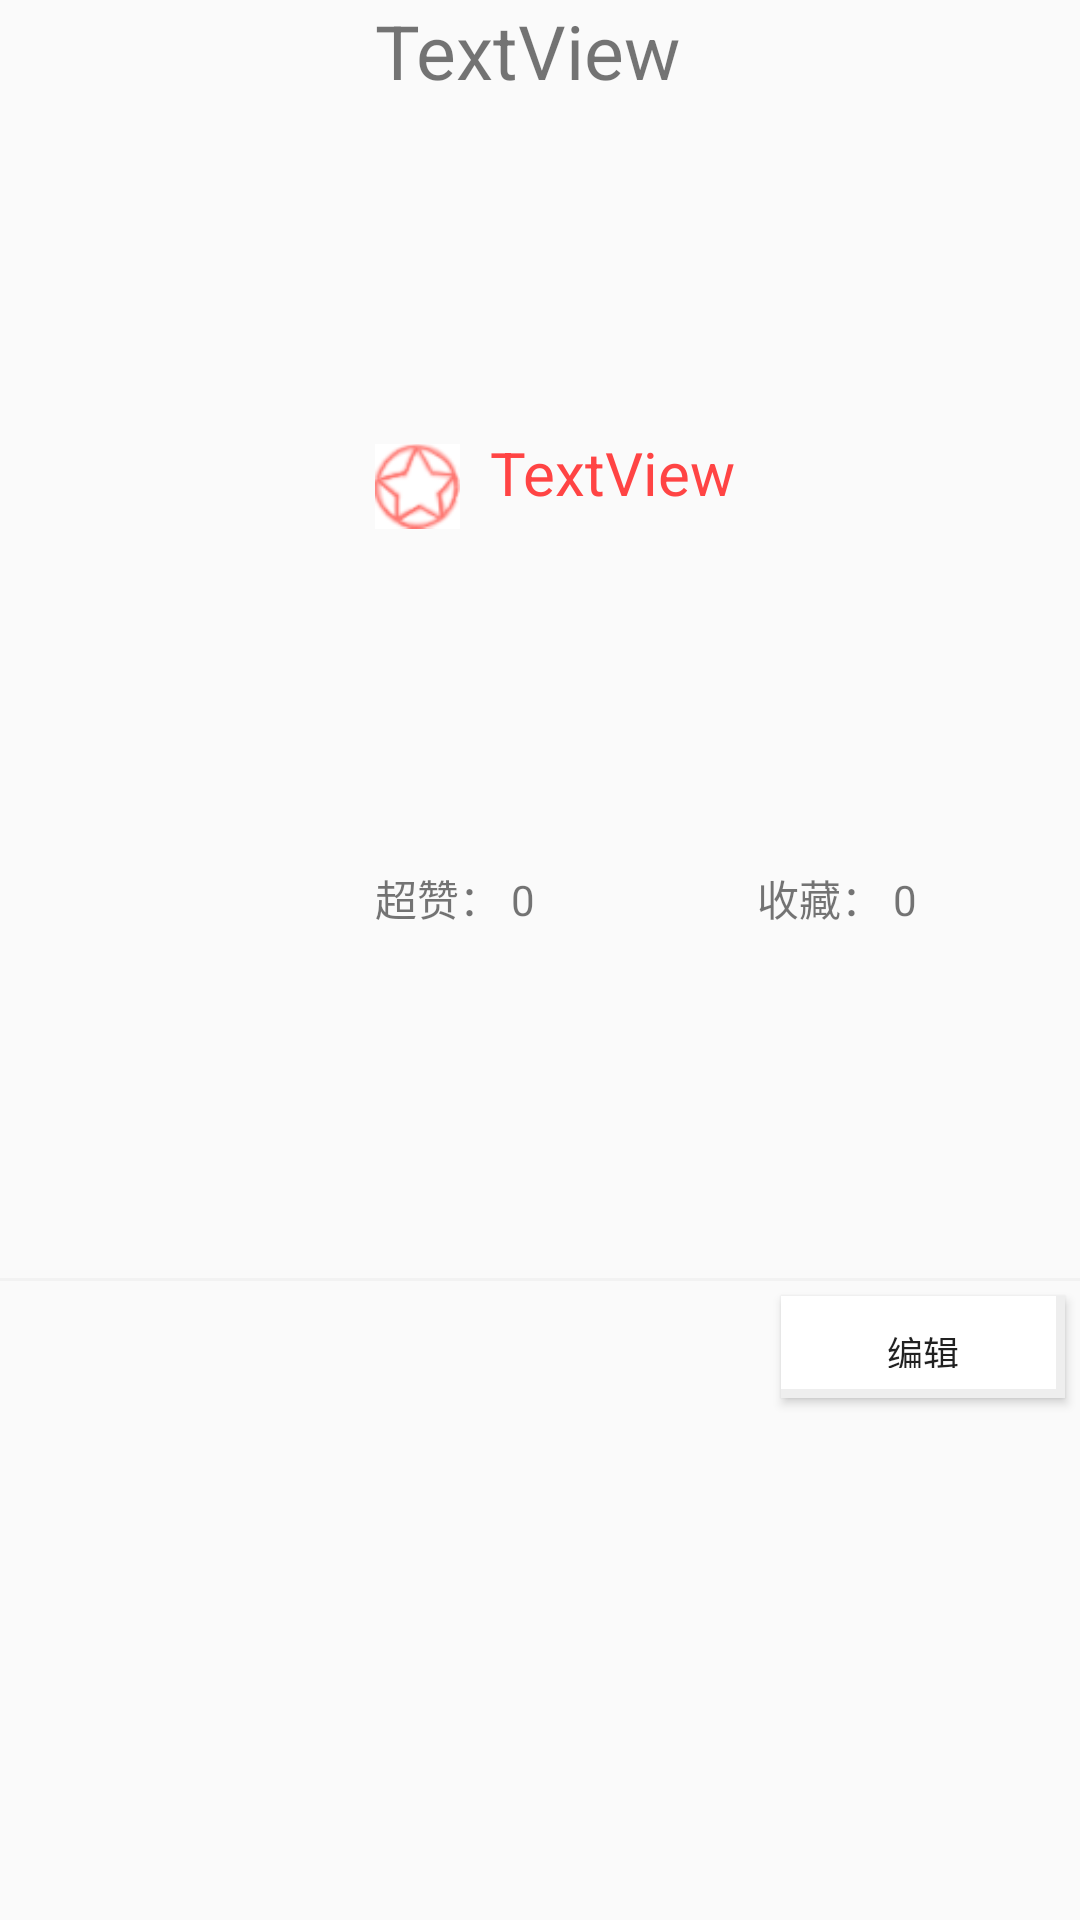

Icon click points for this 1080×1920 phone screenshot, format [x,y]:
jifen on: [417,486]
